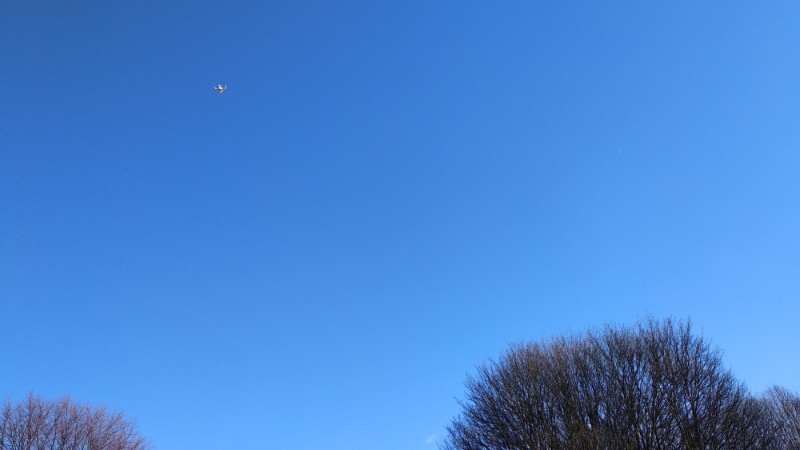drone: (213, 82, 229, 95)
